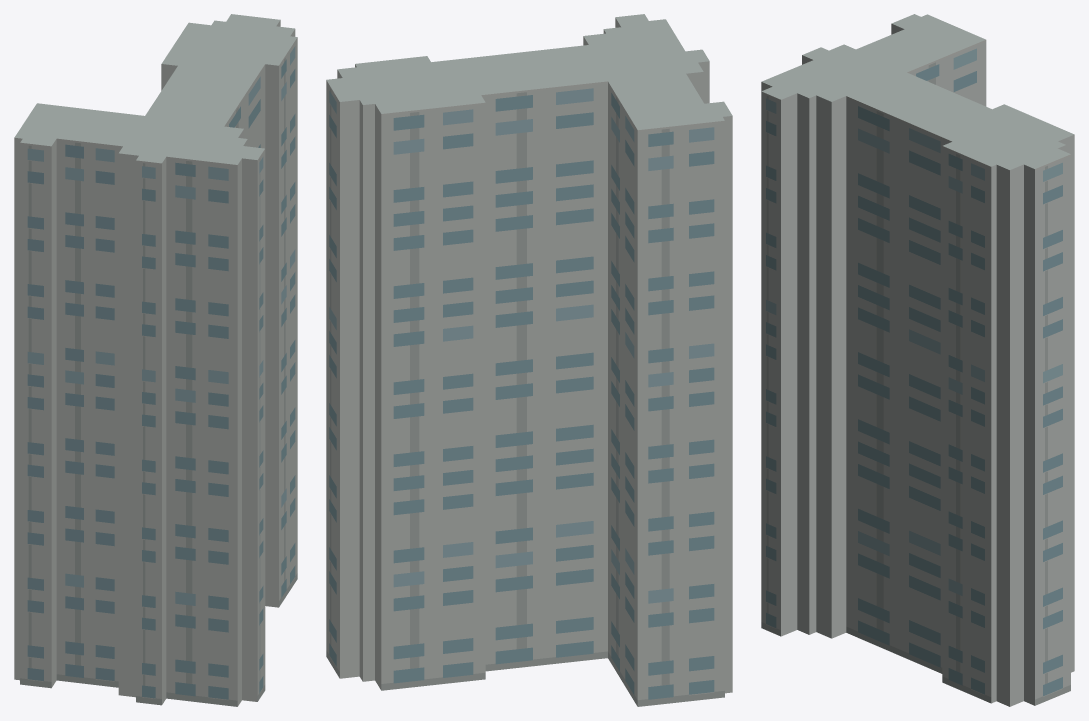
File: residential-c28f5ea9-a088-4dfd-8a28-66f31c70b867.glb
3 views of the same model, side by side, from view 1: azimuth 30°, elevation 25°; view 2: azimuth 150°, elevation 25°; view 3: azimuth 270°, elevation 25° (orthographic). The views are drawn at different scales.
Parts seen in each view (by area): view 1: residential-c28f5ea9-a088-4dfd-8a28-66f31c70b867.tmp; view 2: residential-c28f5ea9-a088-4dfd-8a28-66f31c70b867.tmp; view 3: residential-c28f5ea9-a088-4dfd-8a28-66f31c70b867.tmp.
Part boxes in pixels (x1=…): residential-c28f5ea9-a088-4dfd-8a28-66f31c70b867.tmp: x1=14, y1=14, x2=297, y2=706; residential-c28f5ea9-a088-4dfd-8a28-66f31c70b867.tmp: x1=326, y1=14, x2=732, y2=706; residential-c28f5ea9-a088-4dfd-8a28-66f31c70b867.tmp: x1=761, y1=14, x2=1074, y2=706.
Bounding box in the file's own units: 44.96 × 72 × 38.1.
